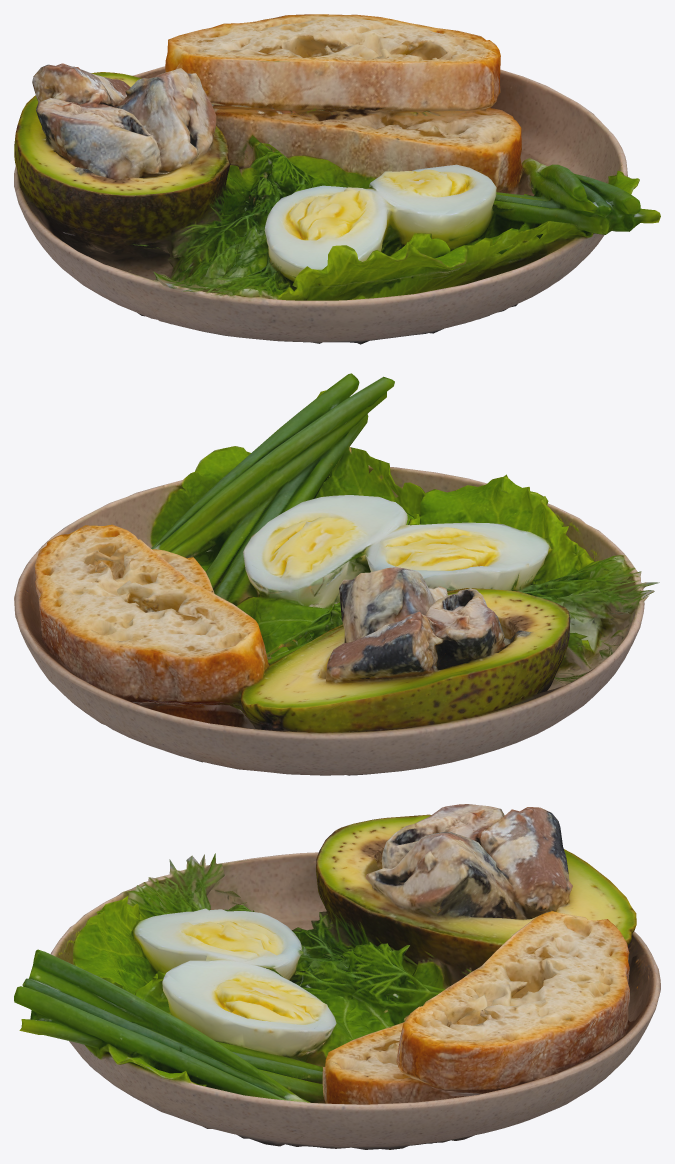
Rendered from oeuf-mimosa.glb.
The picture shows the model from 3 angles, top to bottom: view 1: azimuth 30°, elevation 25°; view 2: azimuth 150°, elevation 25°; view 3: azimuth 270°, elevation 25°; orthographic projection. The views are drawn at different scales.
Visible parts, largest first — view 1: Zavtrak LP_0; view 2: Zavtrak LP_0; view 3: Zavtrak LP_0.
Boxes of the visible parts, x1,y1,x2,y2 form: Zavtrak LP_0: (14, 14, 660, 344); Zavtrak LP_0: (14, 373, 659, 775); Zavtrak LP_0: (14, 804, 660, 1149).
Size of the model in its own units: 0.162 by 0.0465 by 0.1704.
Materials: 1 (1 with a texture image).
